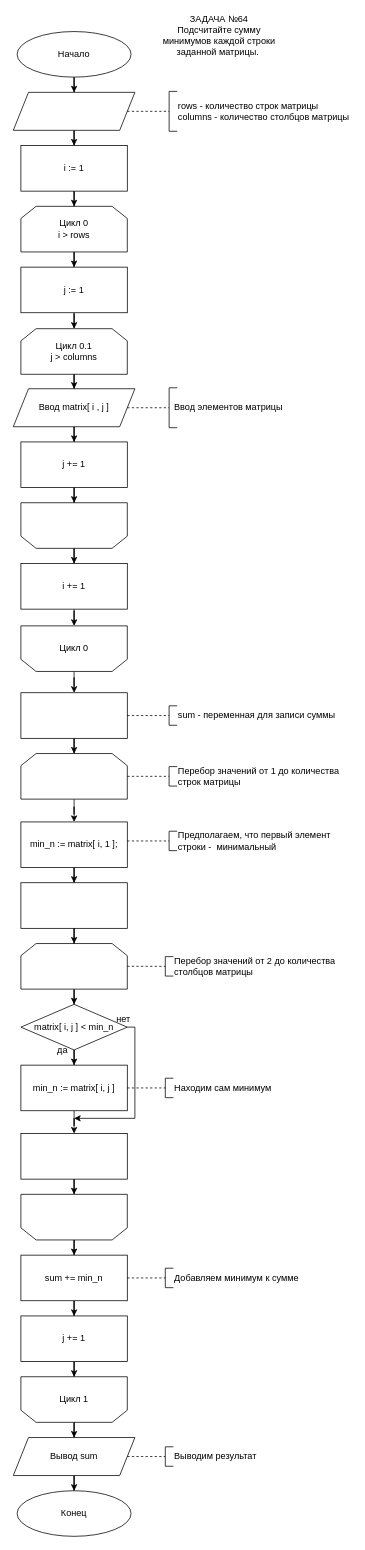
The diagram is 365 pixels wide and 1550 high, and some of its shapes have lost their labels. Each missing label, with the centre of its shape:
i += 1;: point (73, 1156)
j := 2;: point (73, 905)
sum := 0; i := 1;: point (73, 715)
Ввод rows, columns: point (74, 111)
Цикл 0.1: point (73, 525)
Цикл 1 i > rows: point (73, 776)
Цикл 1.1: point (73, 1217)
Цикл 1.1 i > columns: point (73, 966)
